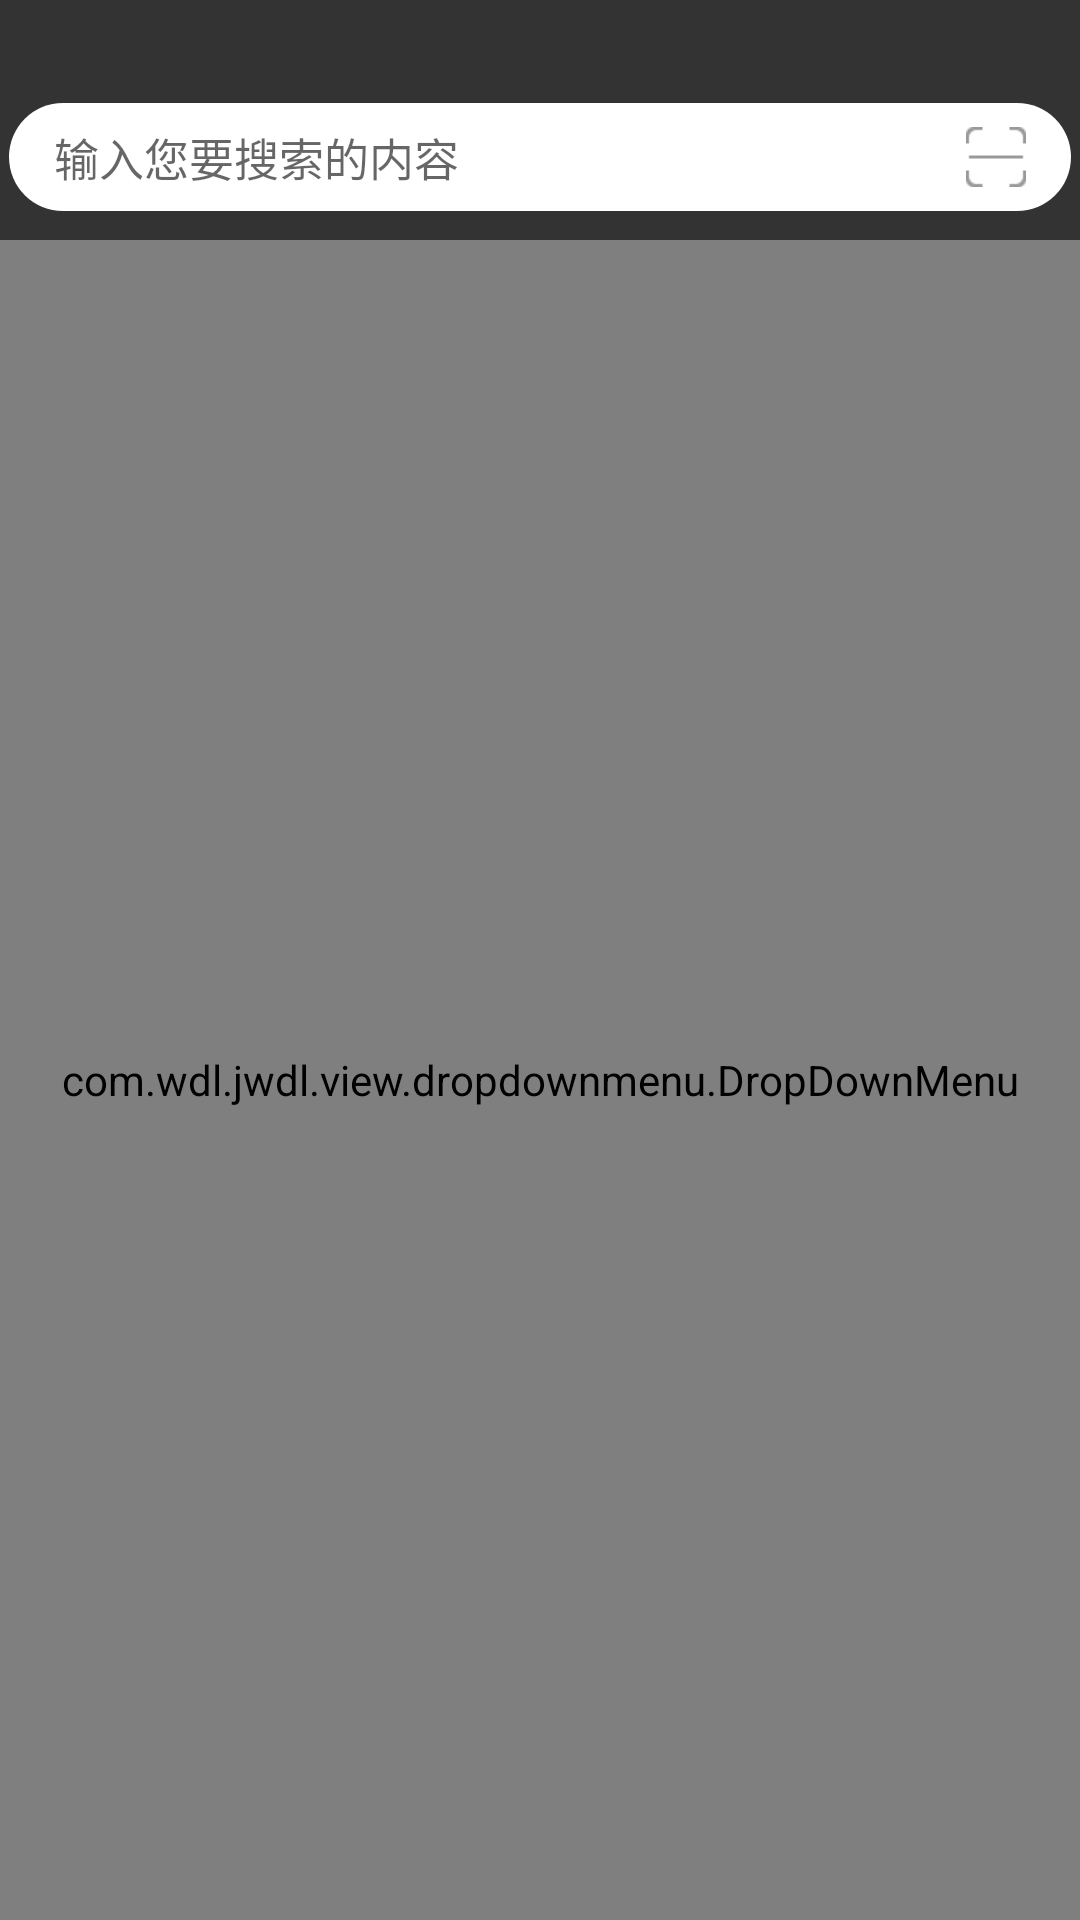

Locate icon controls on the screen. Image size 1080*1920, boxes as (x1, y1, x2, y2).
sao: (966, 127, 1026, 187)
